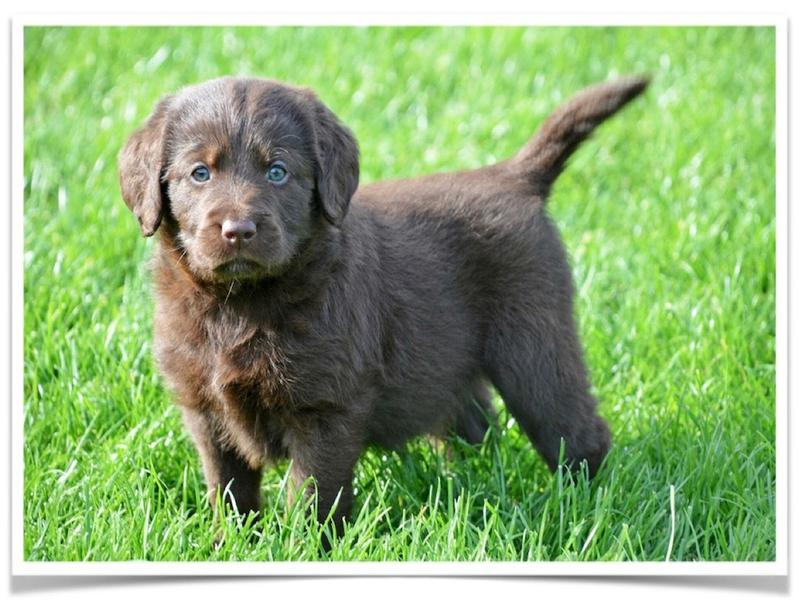dog_stand: (116, 68, 662, 557)
